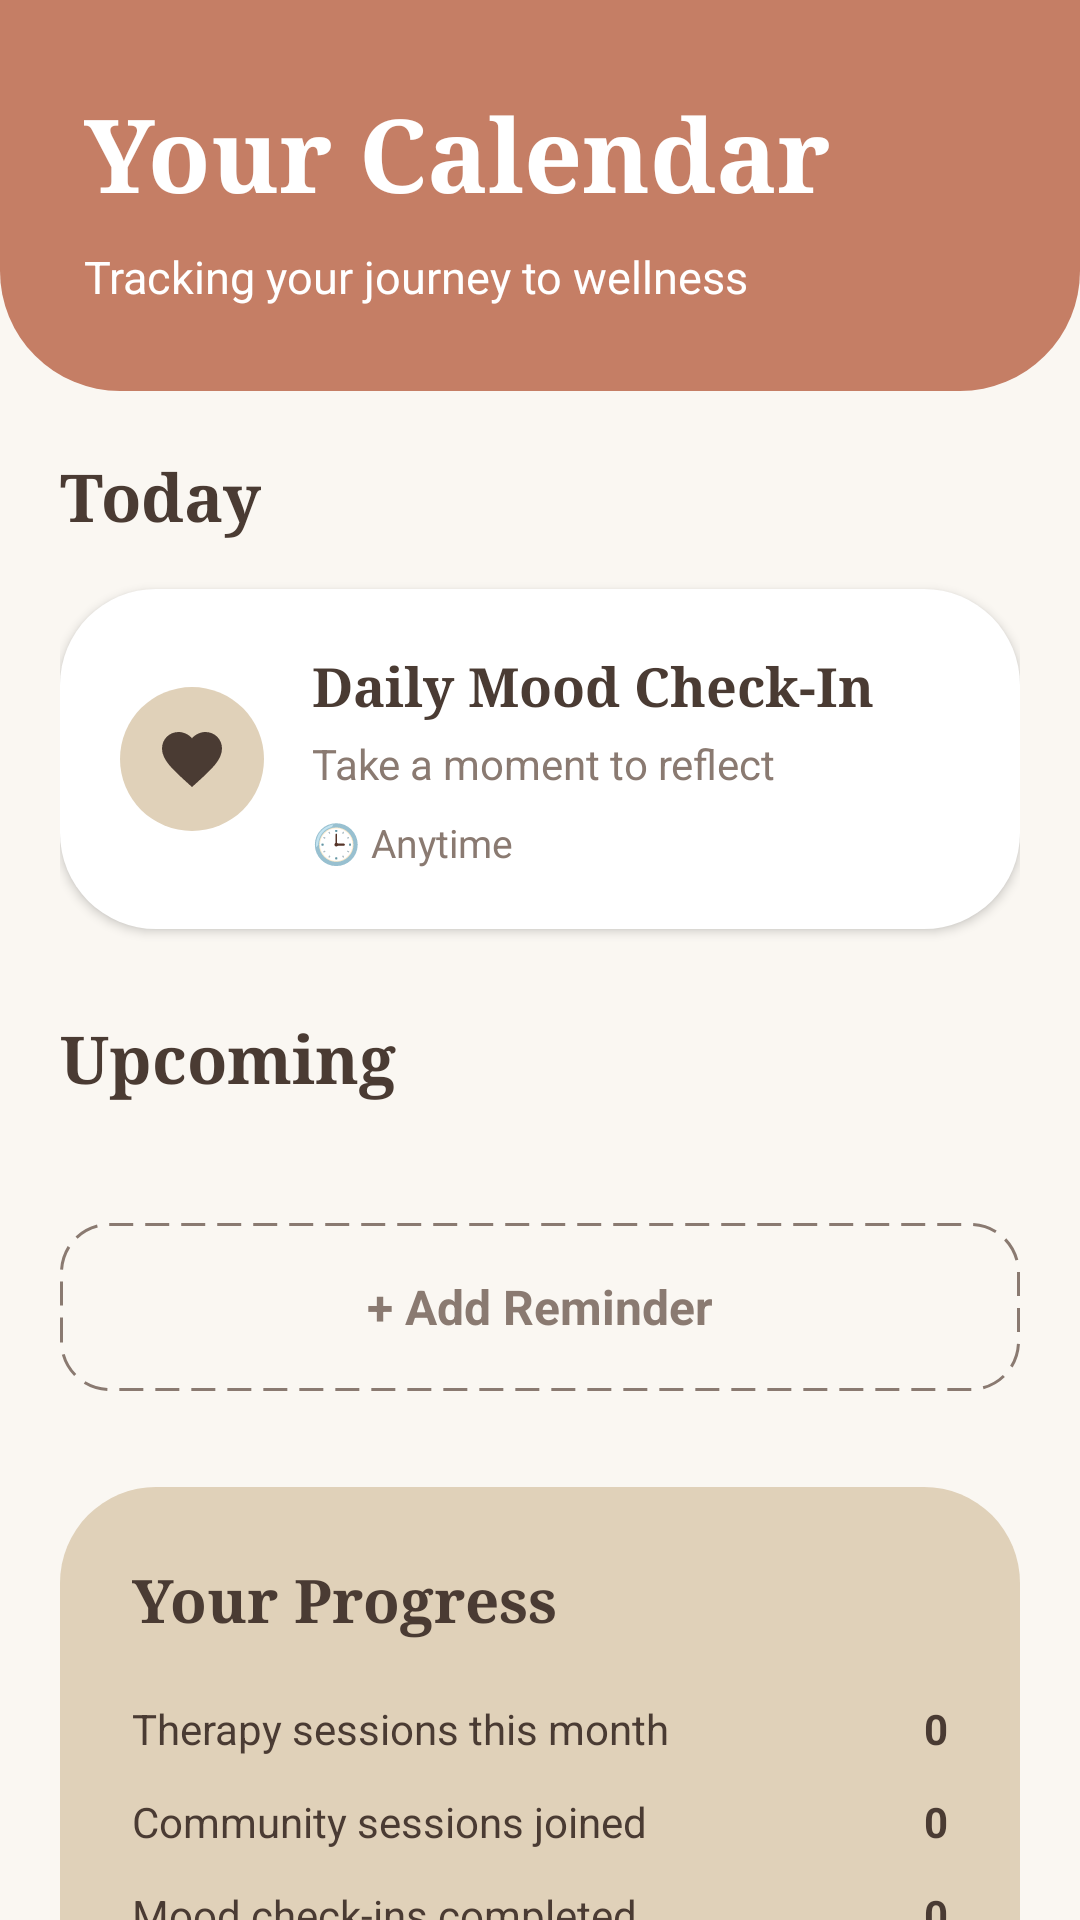

Point at icon controls on the screen. Image size 1080px x 1920px, points as (x=x, y=y).
heart: (x=192, y=759)
